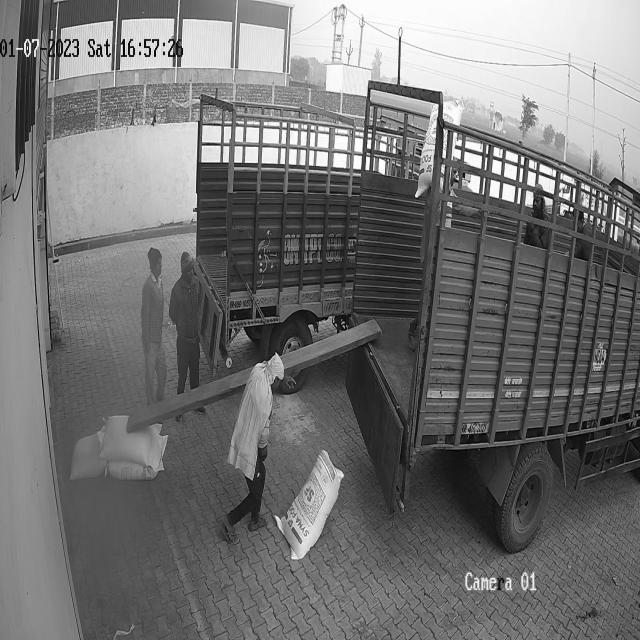sack: (274, 450, 344, 559), (99, 416, 162, 468), (105, 434, 167, 481), (68, 432, 108, 480)
